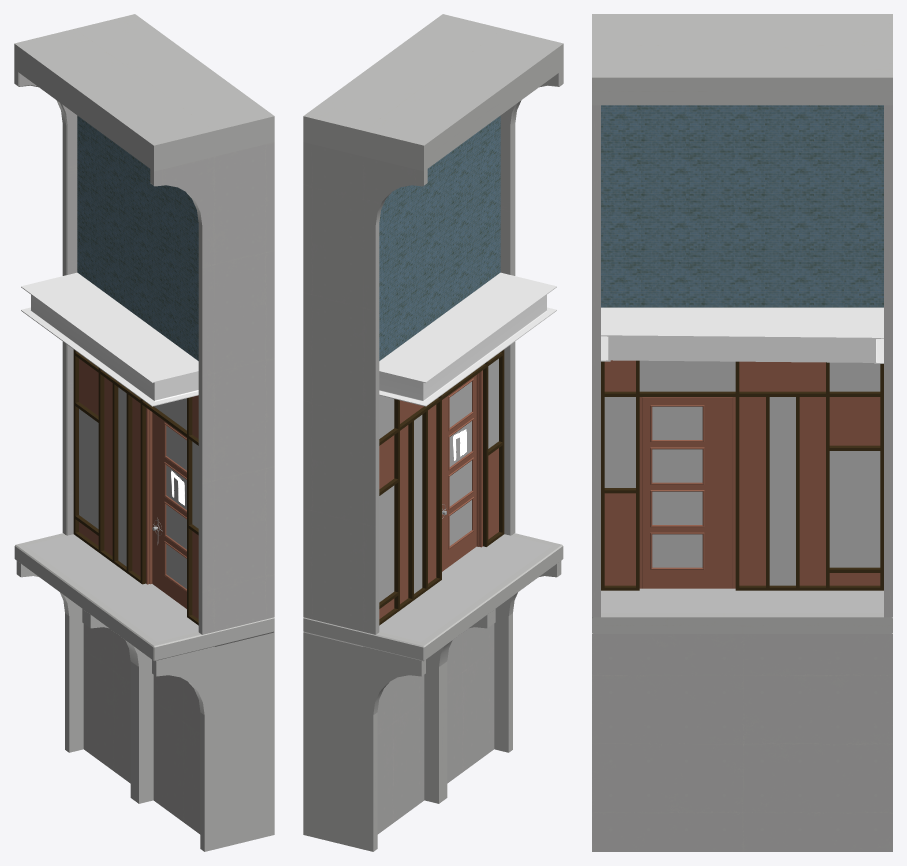
File: DoorBetween.fbx
3 renders of one model, left to right at view 1: azimuth 30°, elevation 25°; view 2: azimuth 150°, elevation 25°; view 3: azimuth 270°, elevation 25°, orthographic. The views are drawn at different scales.
Visible parts, largest first — view 1: WallDoorway, Floor, InfillTile, Canopy, InfillWood, WindowFrames, Door; view 2: WallDoorway, Floor, InfillTile, Canopy, InfillWood, WindowFrames, Door; view 3: Floor, InfillTile, InfillWood, WallDoorway, Door, Canopy, WindowFrames.
Part boxes in pixels (x1,y1,x2,y2): WallDoorway: [14, 14, 274, 634]; Floor: [14, 533, 274, 851]; InfillTile: [77, 115, 198, 360]; Canopy: [21, 272, 198, 406]; InfillWood: [79, 358, 198, 618]; WindowFrames: [73, 349, 198, 625]; Door: [152, 412, 186, 608]; WallDoorway: [303, 14, 563, 634]; Floor: [303, 533, 563, 851]; InfillTile: [379, 115, 500, 360]; Canopy: [379, 272, 556, 406]; InfillWood: [379, 358, 498, 618]; WindowFrames: [379, 349, 504, 625]; Door: [442, 375, 476, 571]; Floor: [592, 588, 892, 851]; InfillTile: [601, 105, 883, 307]; InfillWood: [604, 360, 880, 585]; WallDoorway: [592, 14, 892, 617]; Door: [642, 397, 732, 588]; Canopy: [601, 307, 883, 363]; WindowFrames: [601, 360, 883, 590].
Bounding box in the file's own units: 255 × 1420 × 500.
